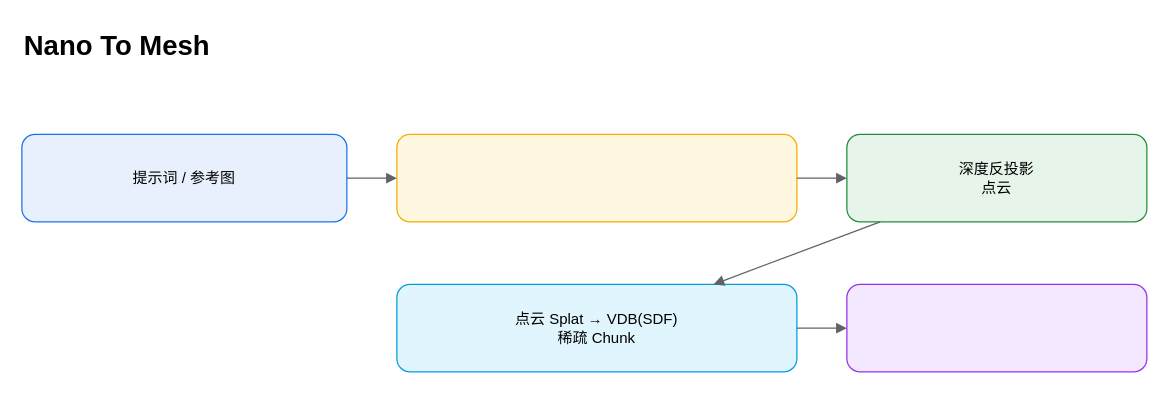
Some shapes in this 1169 by 394 pixel diagram are drawn without their labels. Each missing label, with the centre of its shape:
Gemini 生成 3x2 深度图集（正交）: the point at 596,177
VDB To Polygons Surface Nets → 网格: the point at 996,327
